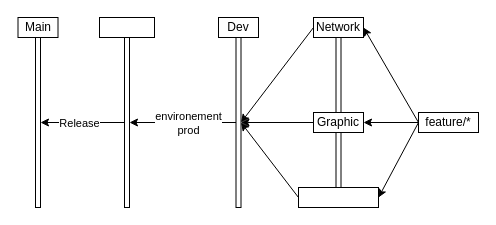
This 496x225 diagram has some shape labels left out. The shapes that lost their labels are listed below. From the top down, each one's centre as x and y in pixels, then its label:
point (126, 27): Recette
point (338, 197): Game Engine
